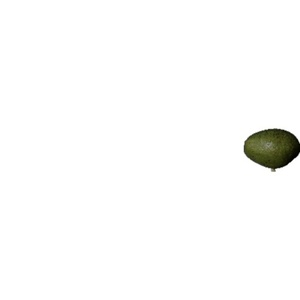abacate: (246, 119, 299, 167)
